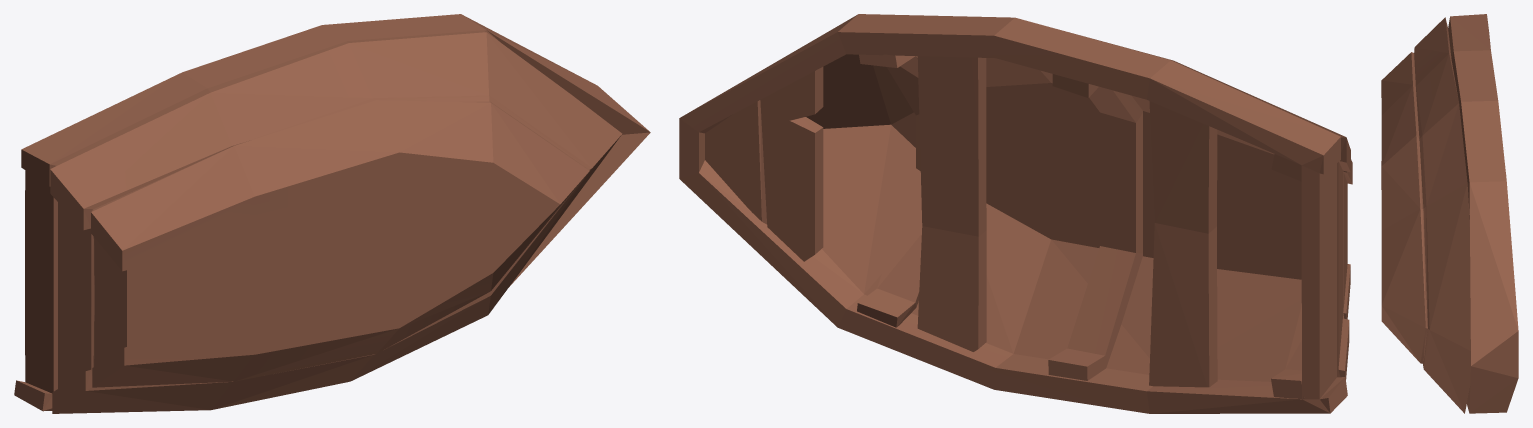
The model's file is Boat.fbx.
3 renders of one model, left to right at view 1: azimuth 30°, elevation 25°; view 2: azimuth 150°, elevation 25°; view 3: azimuth 270°, elevation 25°, orthographic. The views are drawn at different scales.
Visible parts, largest first — view 1: Boat; view 2: Boat; view 3: Boat.
Boxes of the visible parts, left/top/right/bottom form: Boat: left=14, top=14, right=650, bottom=413; Boat: left=679, top=14, right=1352, bottom=413; Boat: left=1381, top=14, right=1518, bottom=413.
Size of the model in its own units: 466 by 108 by 241.
